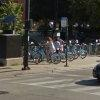Bicycle: (20, 31, 91, 67)
